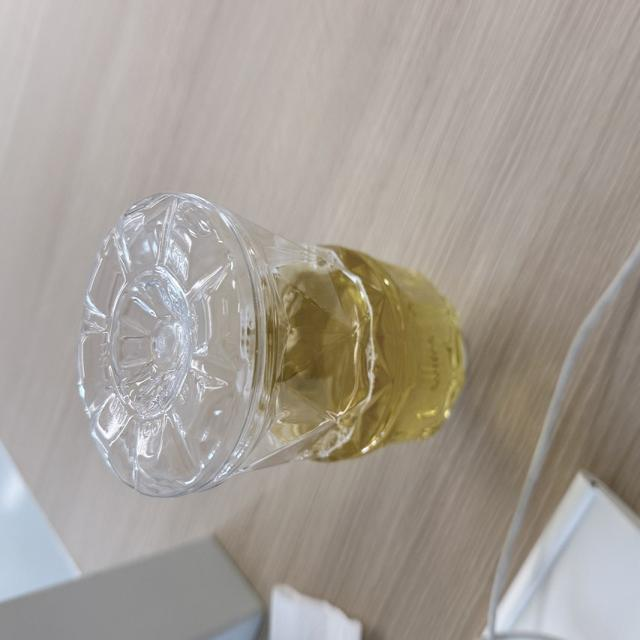medium: (78, 194, 464, 495)
